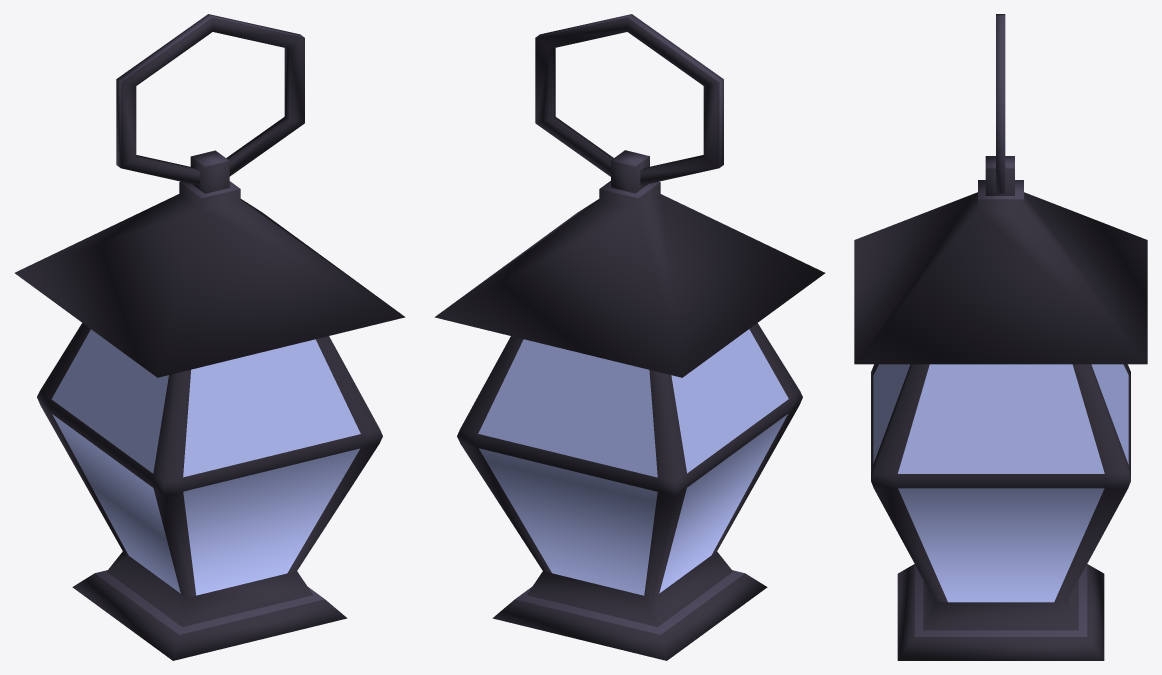
File: Lantern.fbx
3 renders of one model, left to right at view 1: azimuth 30°, elevation 25°; view 2: azimuth 150°, elevation 25°; view 3: azimuth 270°, elevation 25°, orthographic. The views are drawn at different scales.
Visible parts, largest first — view 1: Lantern; view 2: Lantern; view 3: Lantern.
Part boxes in pixels (bbox=[...]): Lantern: bbox=[15, 14, 405, 660]; Lantern: bbox=[434, 14, 825, 660]; Lantern: bbox=[854, 14, 1147, 660].
Size of the model in its own units: 55.5 by 125 by 55.5.
